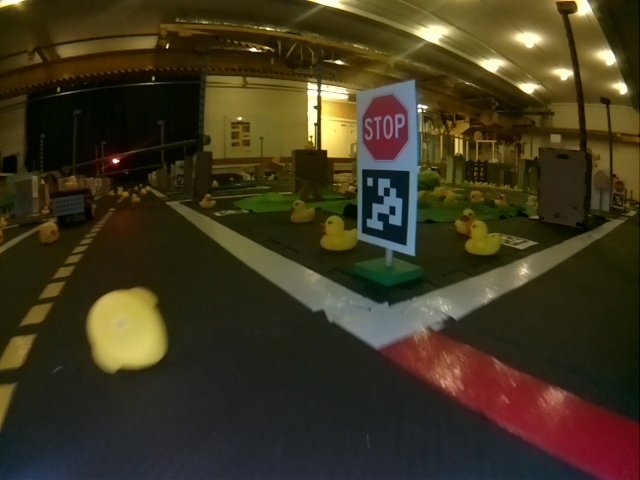Duckie: (86, 288, 167, 372), (320, 216, 357, 250), (466, 221, 500, 254), (290, 200, 315, 222), (456, 209, 477, 235), (39, 223, 59, 241)
Duckiebot: (51, 189, 96, 224)
QR code: (358, 167, 410, 248), (489, 232, 538, 249)
Stop sign: (357, 80, 418, 165)
